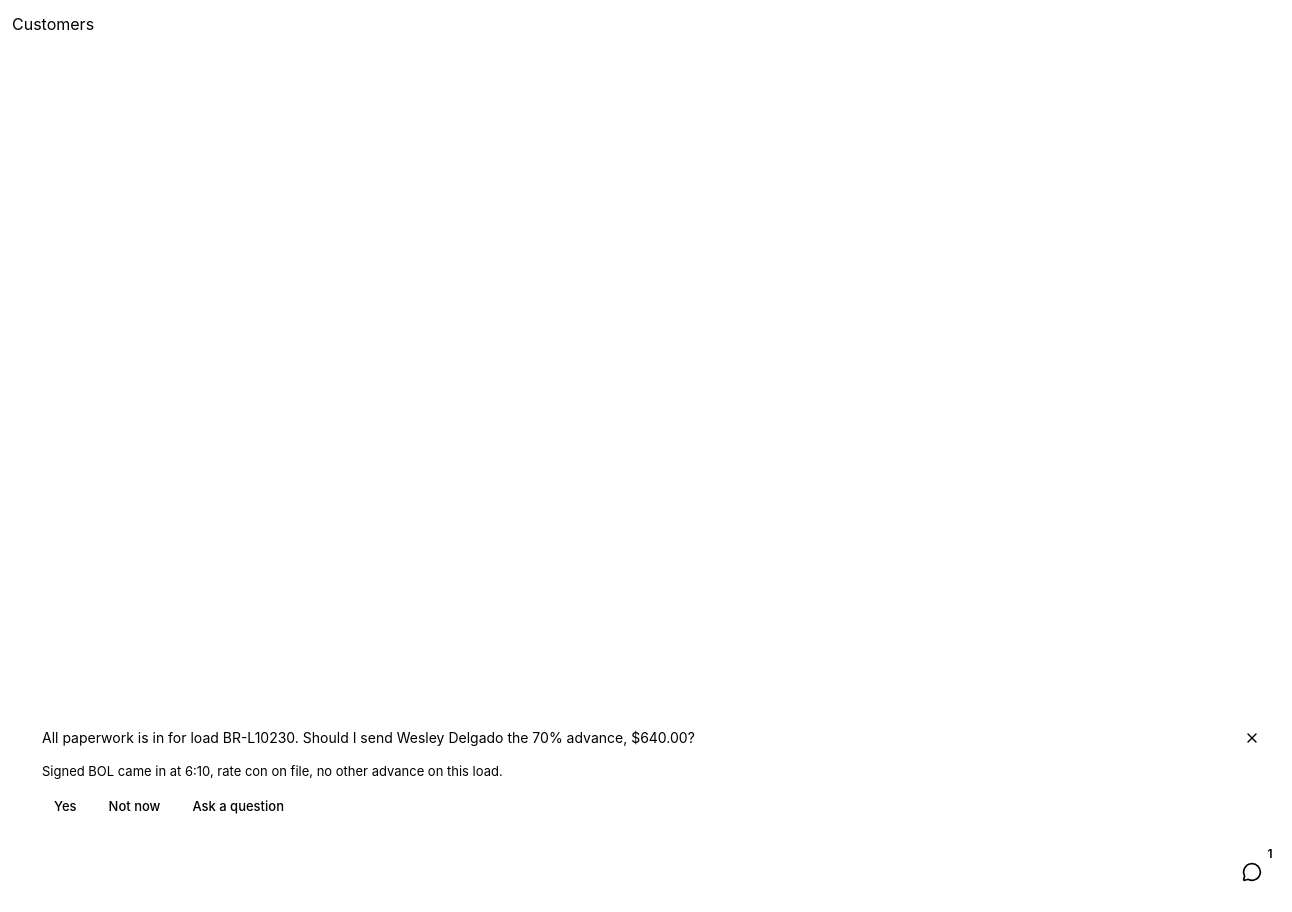
Scenario: the agent's questions on the launcher › approves on Yes with the card's own body and shows the code's line
The width and height of the screenshot is (1292, 912).
What coordinates should you click on to do the following:
click the button "Yes"
I would click on:
 (65, 806)
Its box is [42,790,89,822].
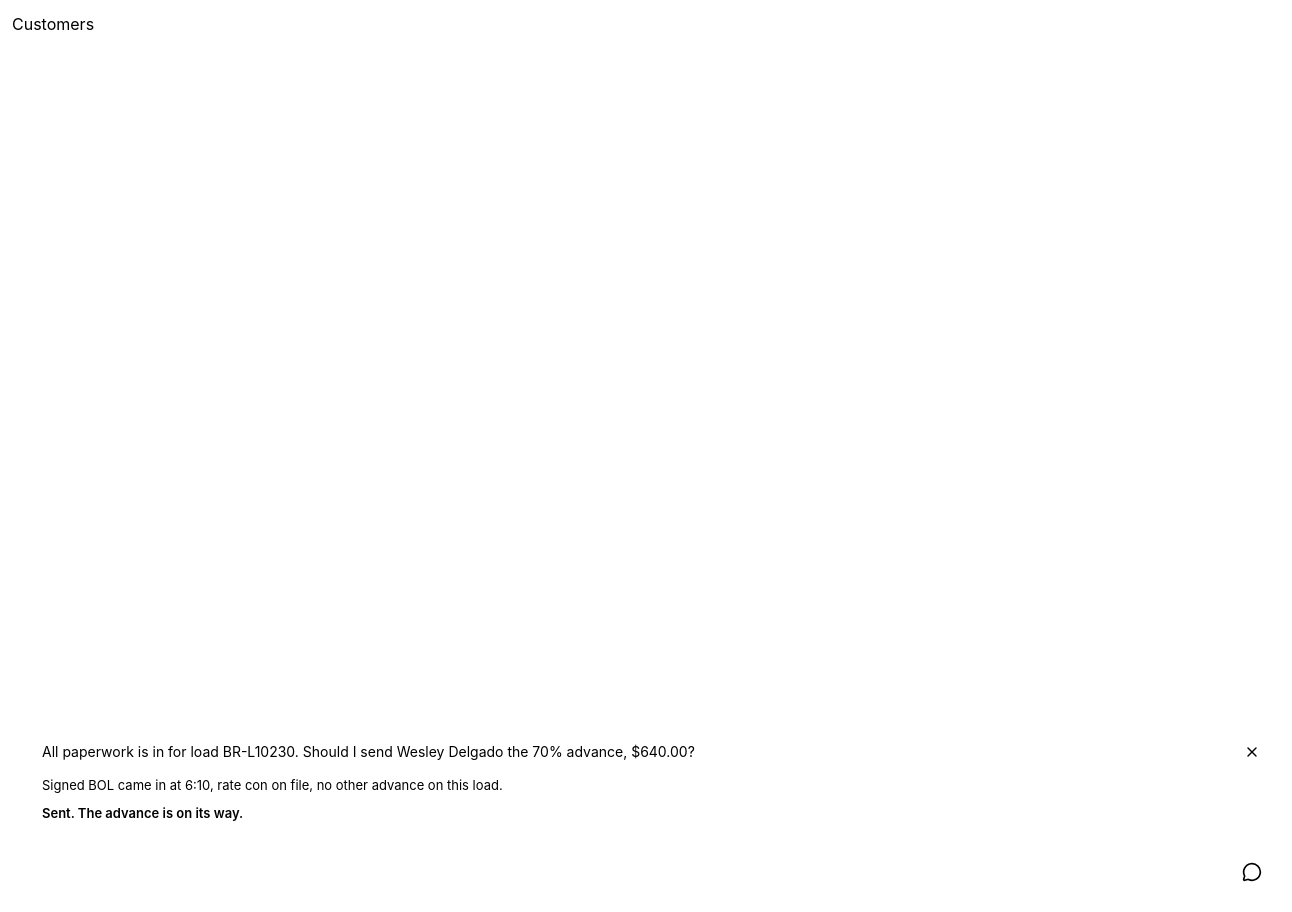
Now the message reads "Sent. The advance is on its way.", box [42,805,243,821]
Now the button "Yes" is gone
Now the text with test id "ask-badge" is gone
